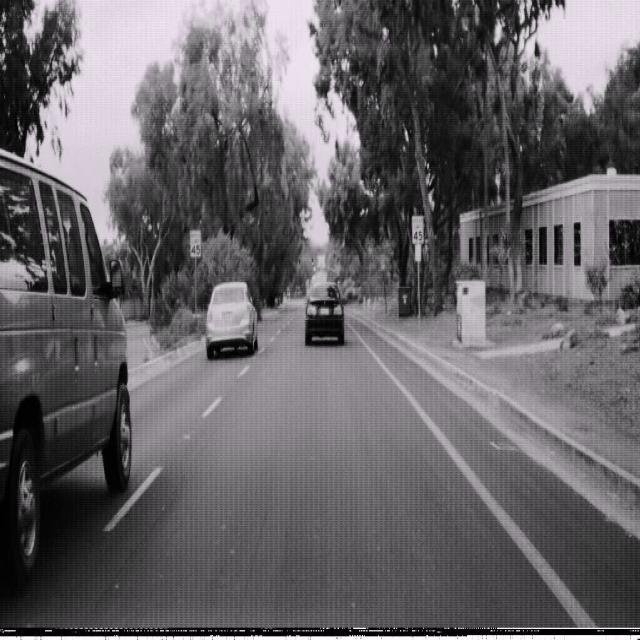speedLimit45: (411, 213, 424, 244), (189, 228, 201, 258)
